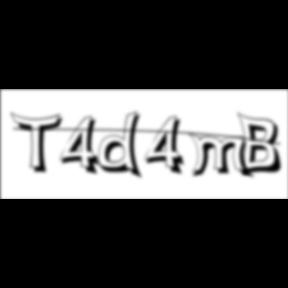4: (144, 115, 192, 179), (60, 115, 106, 179)
B: (238, 111, 288, 179)
T: (10, 112, 68, 176)
d: (98, 110, 148, 182)
m: (189, 132, 257, 181)
